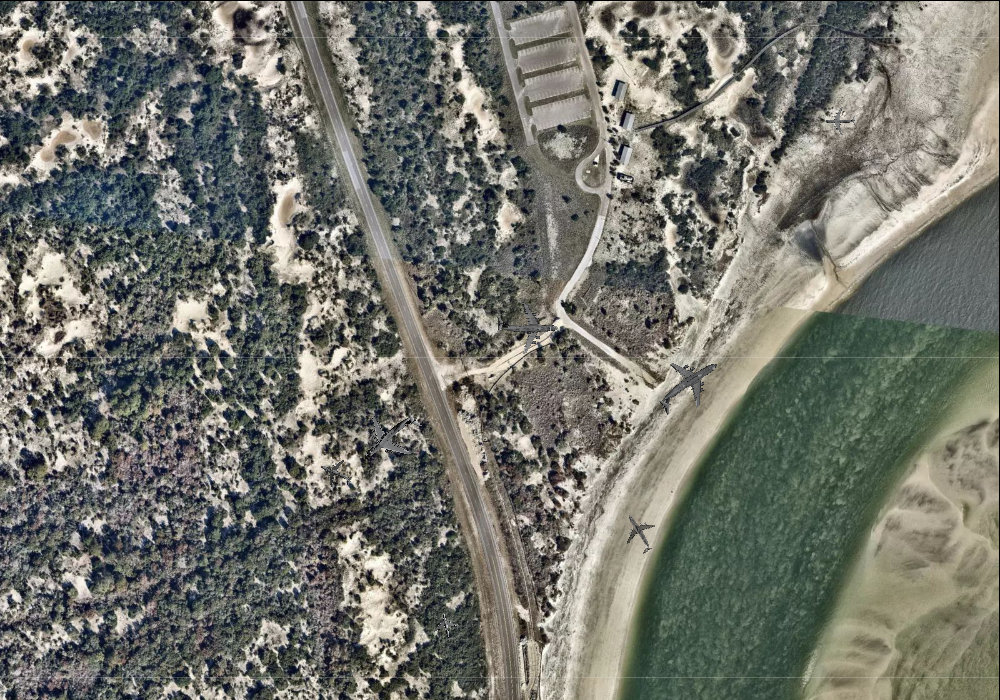plane: (642, 340, 735, 431), (345, 393, 435, 483), (495, 296, 558, 355), (611, 506, 666, 561), (313, 452, 357, 495), (430, 610, 462, 644), (825, 105, 856, 135)
